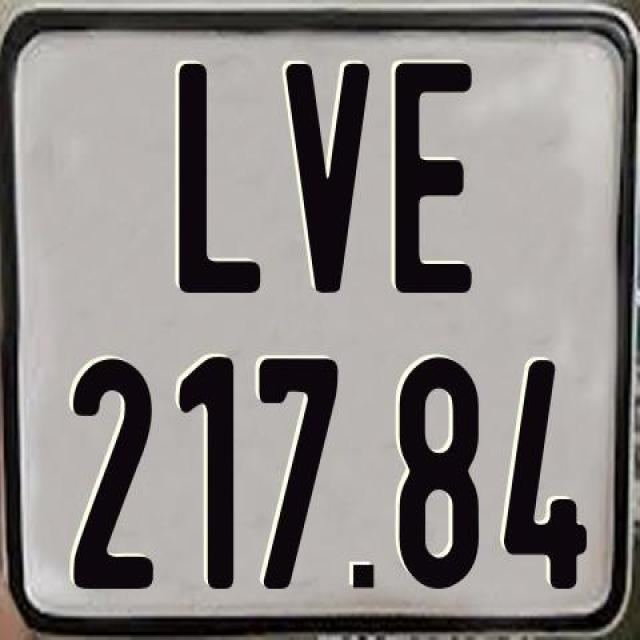1: (178, 356, 238, 598)
2: (70, 357, 152, 596)
4: (500, 360, 591, 592)
7: (256, 355, 343, 595)
8: (397, 354, 479, 586)
E: (394, 58, 472, 298)
L: (178, 61, 262, 292)
V: (285, 59, 375, 293)
